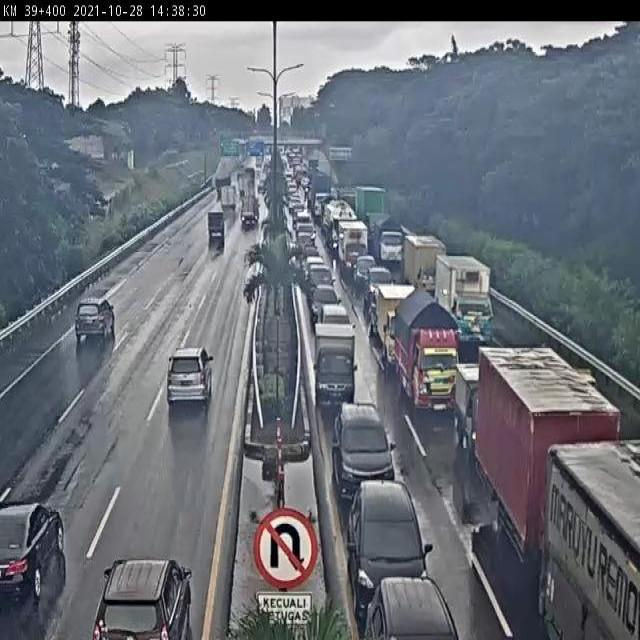big truck: (489, 353, 592, 556), (361, 189, 386, 236), (311, 177, 332, 220)
car: (350, 486, 429, 582), (91, 552, 180, 637), (0, 494, 67, 590), (371, 578, 456, 640), (339, 402, 397, 478), (166, 343, 224, 417), (321, 331, 366, 405), (76, 288, 121, 339), (317, 305, 350, 332), (315, 289, 342, 319), (206, 209, 226, 240), (307, 272, 333, 295), (372, 275, 395, 301), (361, 262, 378, 286), (302, 250, 318, 266), (299, 233, 313, 251), (296, 224, 314, 237), (307, 260, 322, 275), (295, 216, 311, 228), (294, 201, 306, 216), (312, 249, 313, 252), (324, 269, 325, 271)
small truck: (402, 307, 459, 412), (444, 259, 496, 348), (458, 368, 486, 459), (383, 289, 410, 362), (408, 237, 441, 296), (342, 227, 371, 274), (381, 220, 407, 267), (328, 204, 350, 257), (243, 192, 262, 227), (222, 182, 237, 206), (258, 168, 269, 191), (240, 169, 251, 192), (217, 172, 229, 189), (248, 160, 258, 179)
